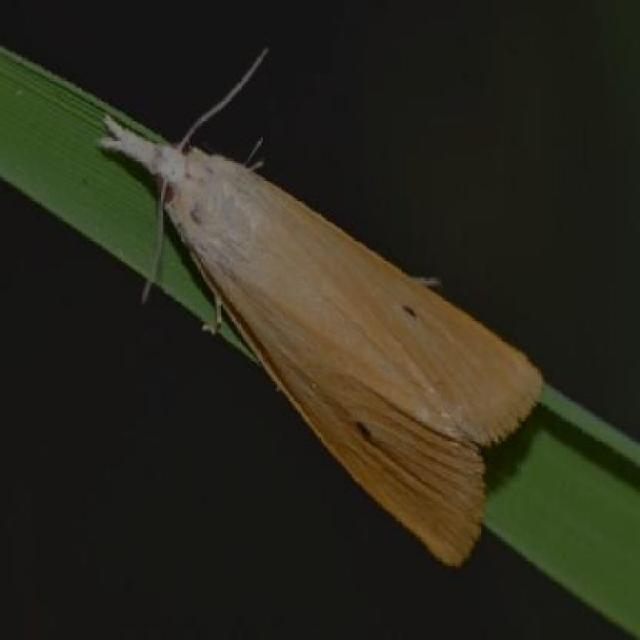stem-borer: (95, 44, 548, 570)
